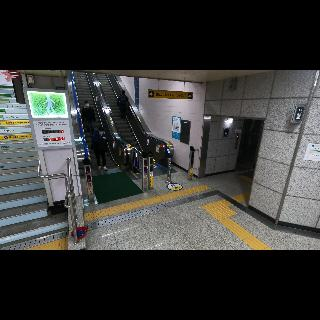normal: (90, 126, 112, 174), (80, 102, 96, 134), (116, 88, 130, 122)
